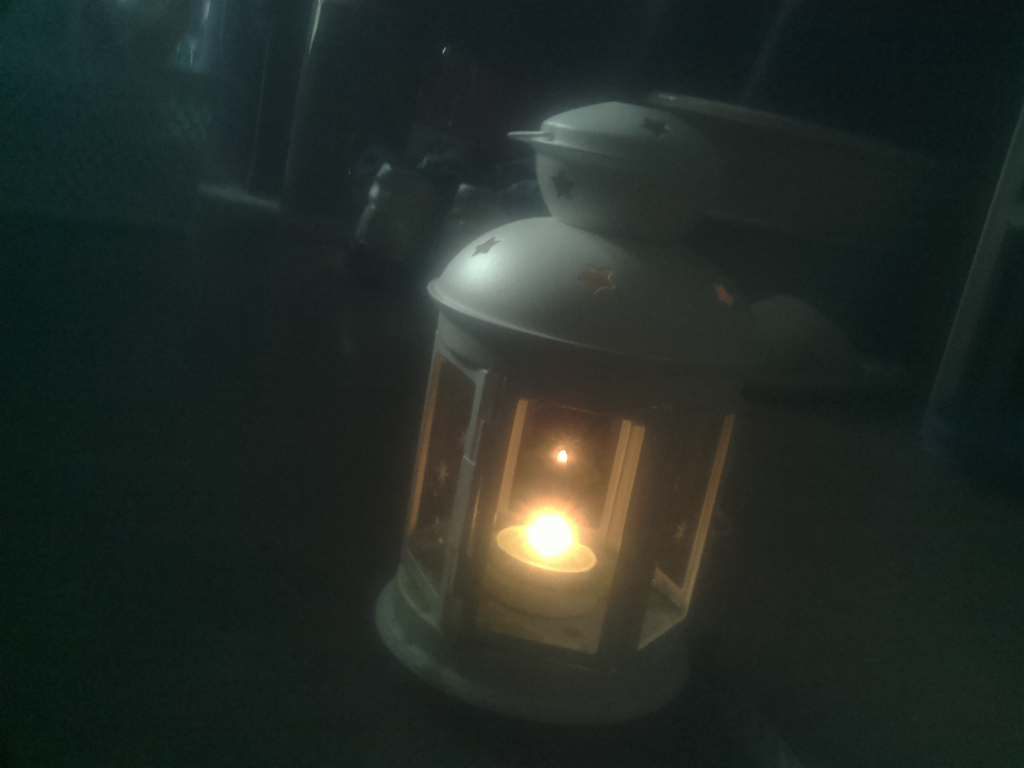fire: (493, 483, 602, 610)
